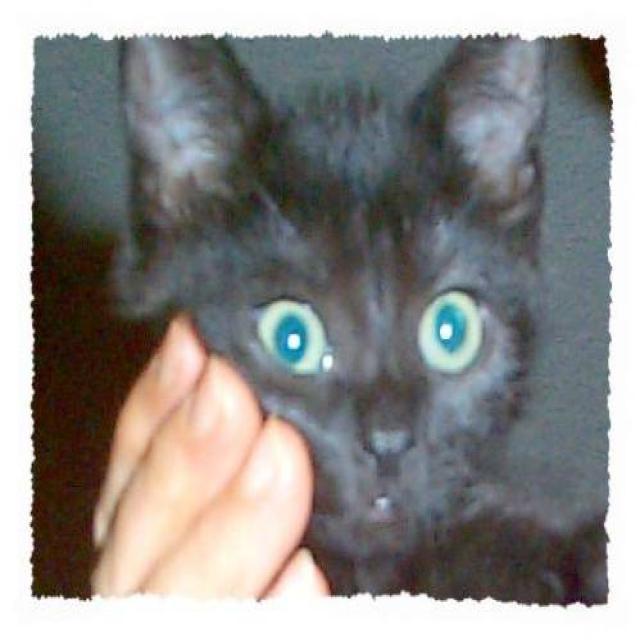cat: (101, 31, 607, 604)
